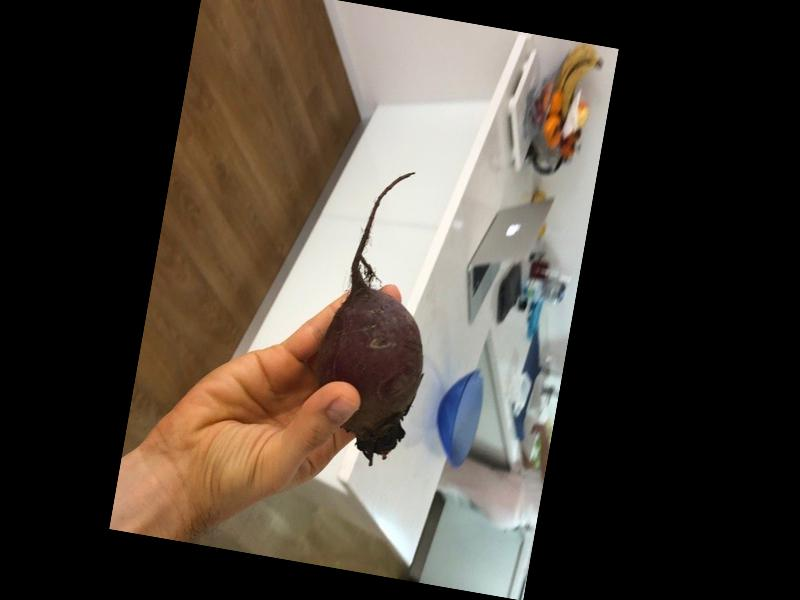Beet: (304, 161, 455, 468)
